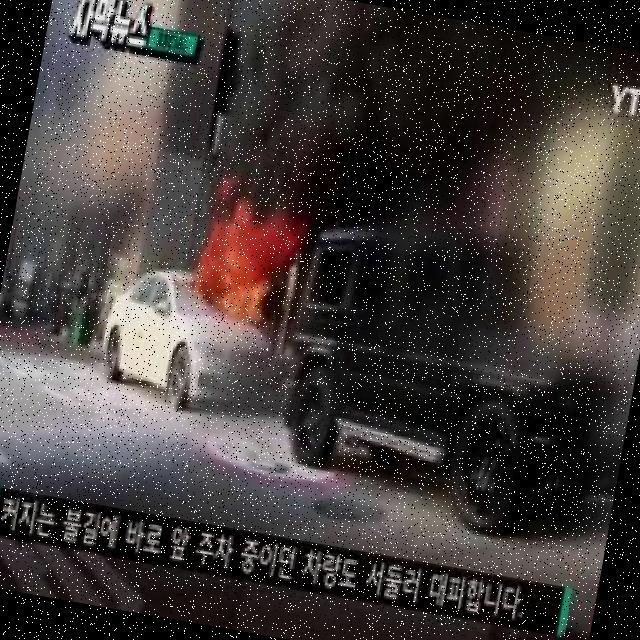Fire: (193, 217, 284, 323)
